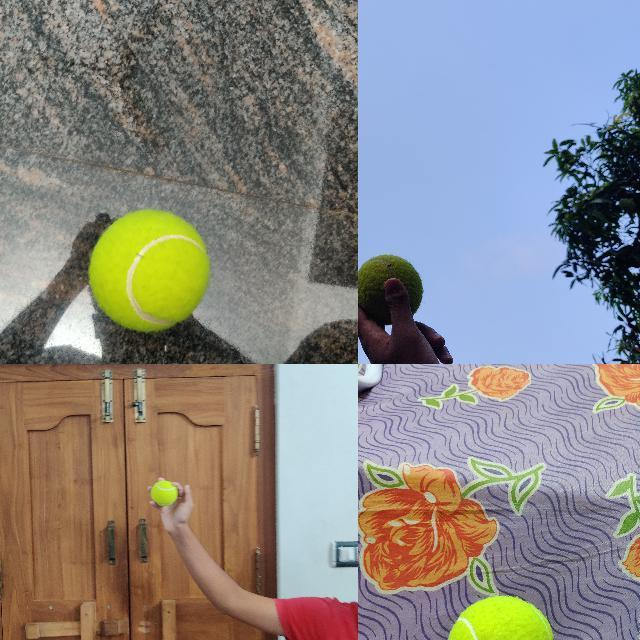tennis-ball: (88, 209, 210, 333), (446, 594, 554, 639), (358, 254, 424, 327), (151, 480, 178, 507)
